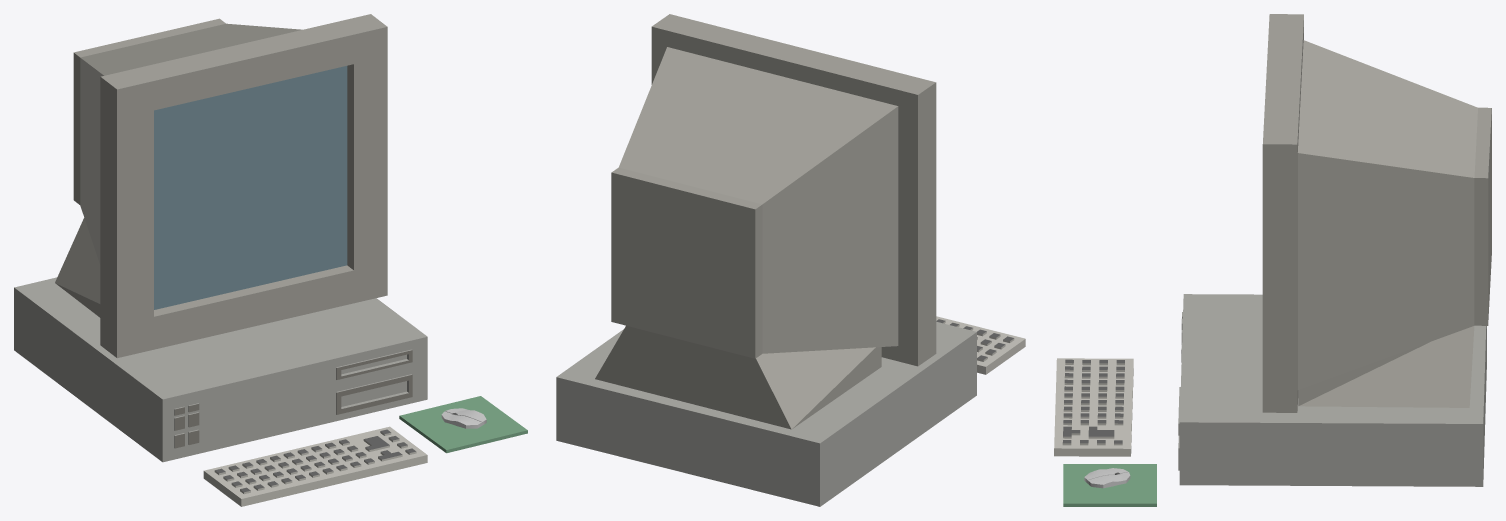
The model's file is Ordinateur_Bibliotheque.fbx.
The picture shows the model from 3 angles, left to right: view 1: azimuth 30°, elevation 25°; view 2: azimuth 150°, elevation 25°; view 3: azimuth 270°, elevation 25°; orthographic projection.
Visible parts, largest first — view 1: Monitor, Base_Ordinateur, Keyboard, Tapis, Mouse; view 2: Monitor, Base_Ordinateur, Keyboard; view 3: Monitor, Base_Ordinateur, Keyboard, Tapis, Mouse.
Boxes of the visible parts, x1,y1,x2,y2 form: Monitor: (55, 14, 387, 358); Base_Ordinateur: (14, 277, 427, 462); Keyboard: (203, 426, 427, 506); Tapis: (399, 396, 527, 453); Mouse: (441, 408, 486, 428); Monitor: (595, 14, 936, 429); Base_Ordinateur: (556, 321, 976, 506); Keyboard: (936, 316, 1025, 374); Monitor: (1262, 14, 1491, 412); Base_Ordinateur: (1178, 294, 1486, 486); Keyboard: (1054, 358, 1133, 456); Tapis: (1063, 464, 1156, 506); Mouse: (1084, 468, 1130, 488).
Bounding box in the file's own units: 72.75 × 77.75 × 89.76.
